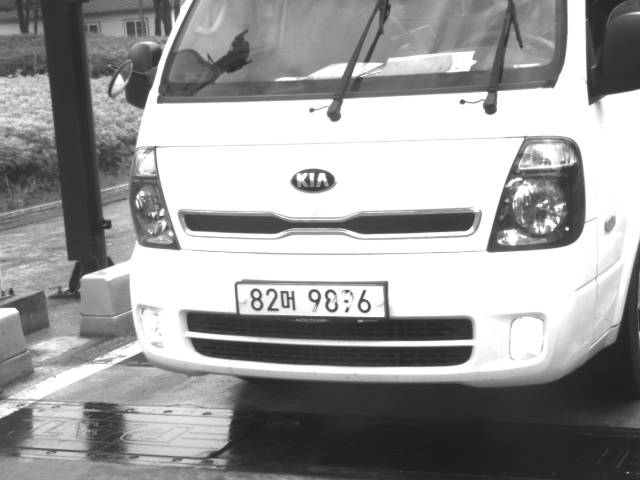car: (104, 1, 639, 398)
plate: (233, 280, 391, 321)
